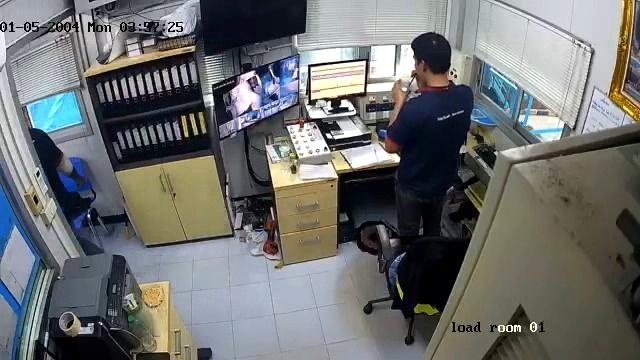Head: (411, 34, 457, 83)
People: (386, 33, 473, 240)
